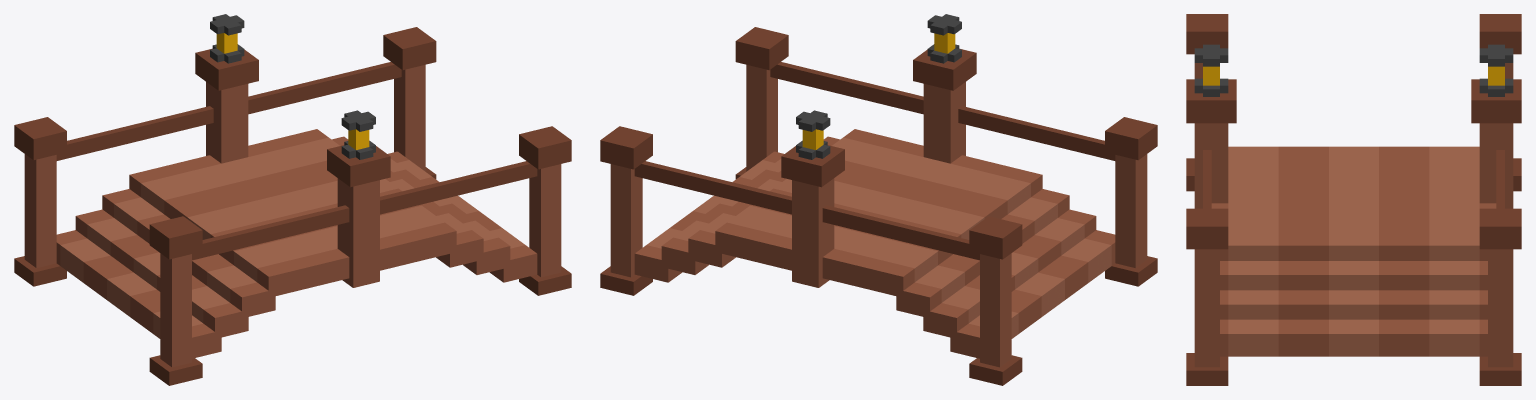
The model's file is bridge.vox.obj.
3 renders of one model, left to right at view 1: azimuth 30°, elevation 25°; view 2: azimuth 150°, elevation 25°; view 3: azimuth 270°, elevation 25°, orthographic. The views are drawn at different scales.
Bounding box in the file's own units: 6 × 3 × 4.
1 material, 1 textured.
